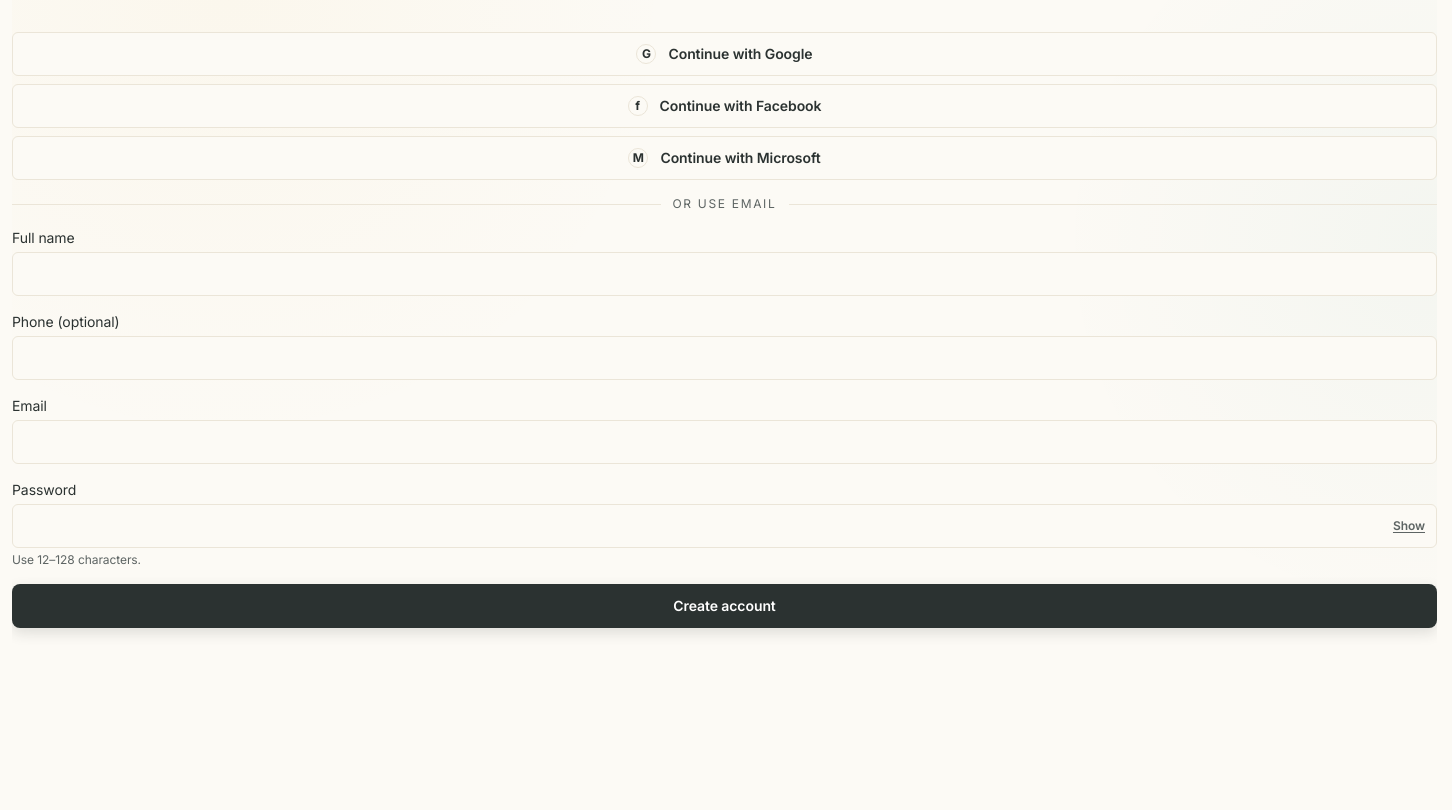
customer authentication forms › does not expose provider error details
Click the button "G Continue with Google": (724, 54) [12,32,1437,76]
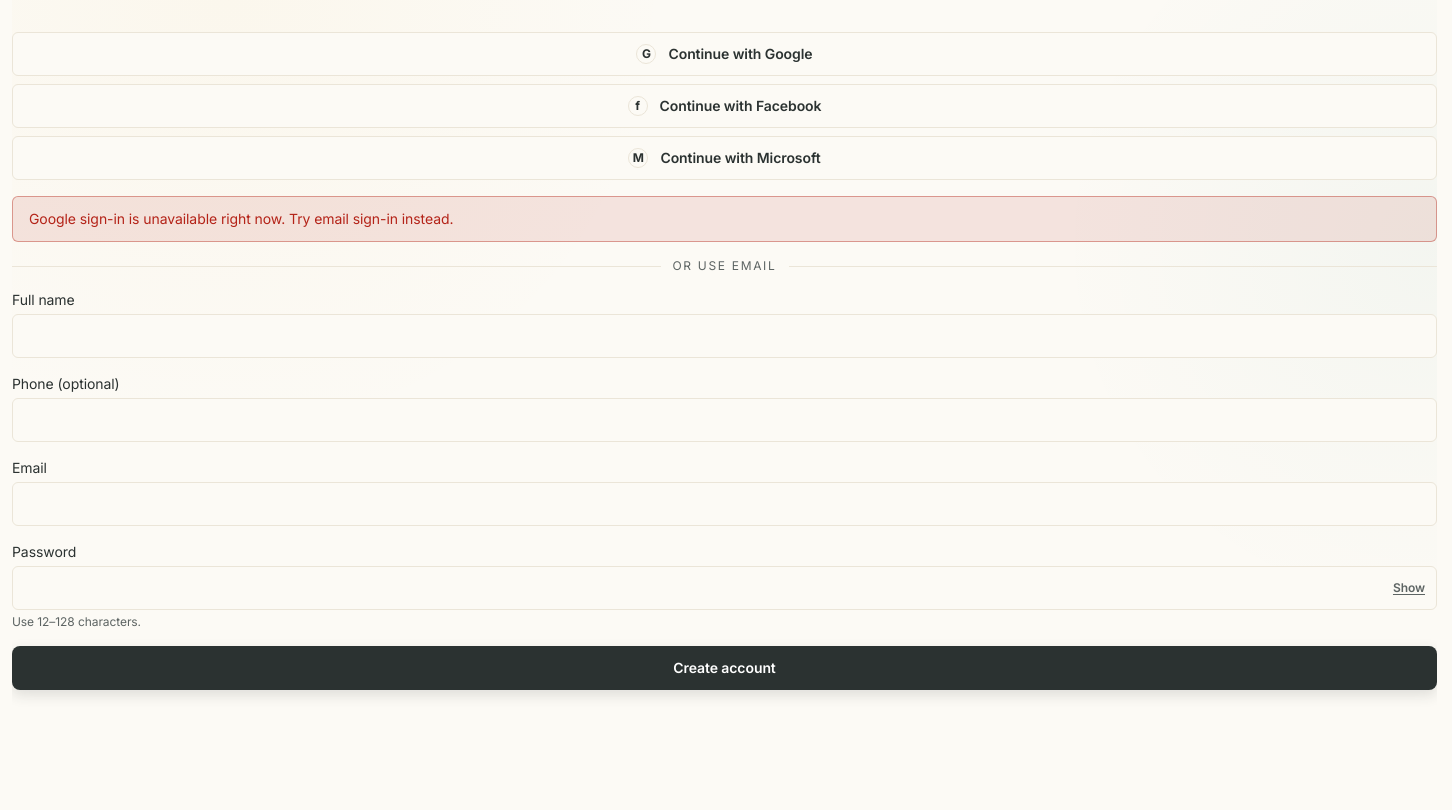
Check: the message shows "Google sign-in is unavailable", box [29,210,453,227]
